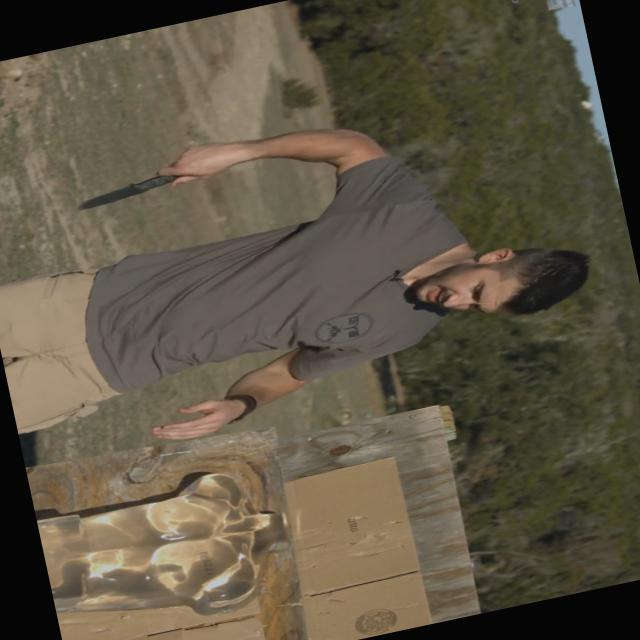knife: (57, 137, 220, 220)
